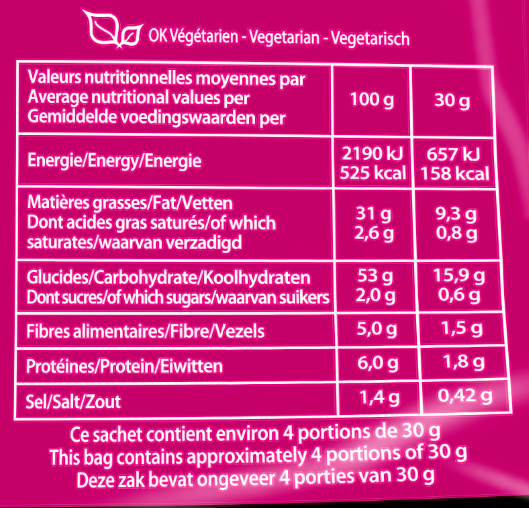column: (26, 67, 328, 408), (421, 92, 493, 408), (341, 90, 407, 408)
table: (14, 57, 514, 422)
